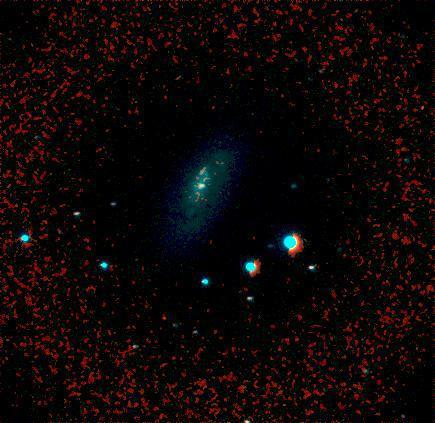star: (149, 301, 179, 331)
